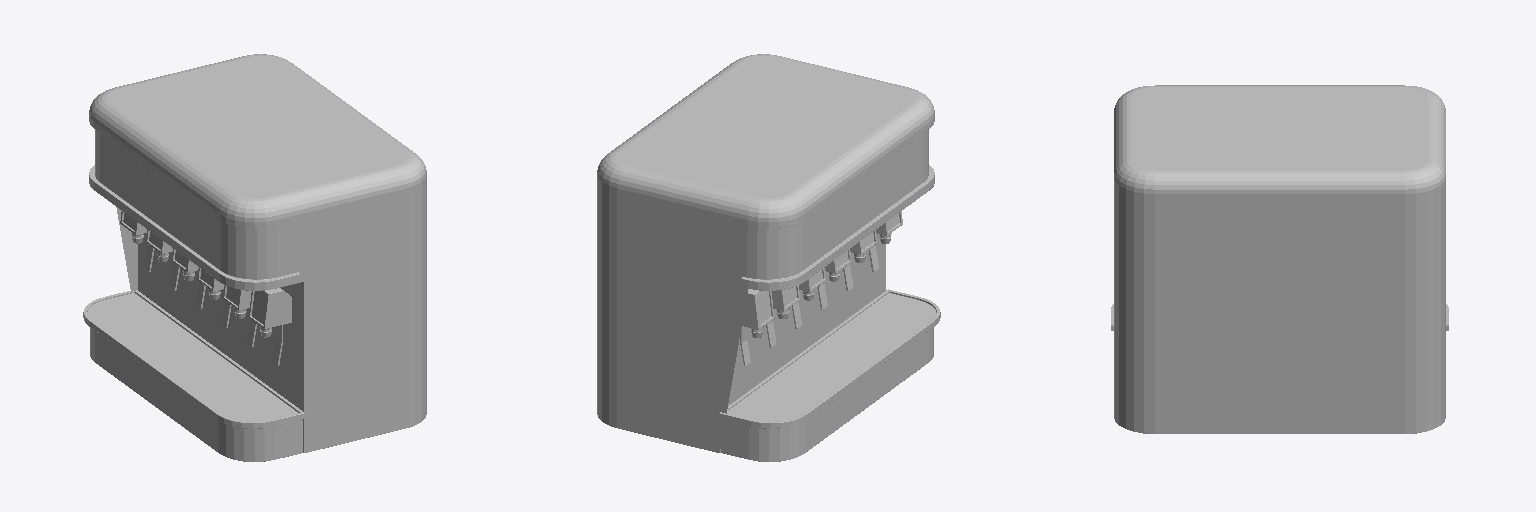
File: MachineSoda.obj
3 views of the same model, side by side, from view 1: azimuth 30°, elevation 25°; view 2: azimuth 150°, elevation 25°; view 3: azimuth 270°, elevation 25° (orthographic).
Parts seen in each view (by area): view 1: drink_dispenser; view 2: drink_dispenser; view 3: drink_dispenser.
Part boxes in pixels (bbox=[...]): drink_dispenser: bbox=[83, 54, 426, 461]; drink_dispenser: bbox=[597, 54, 940, 461]; drink_dispenser: bbox=[1111, 85, 1448, 433].
Size of the model in its own units: 0.6627 by 0.7893 by 0.9452.